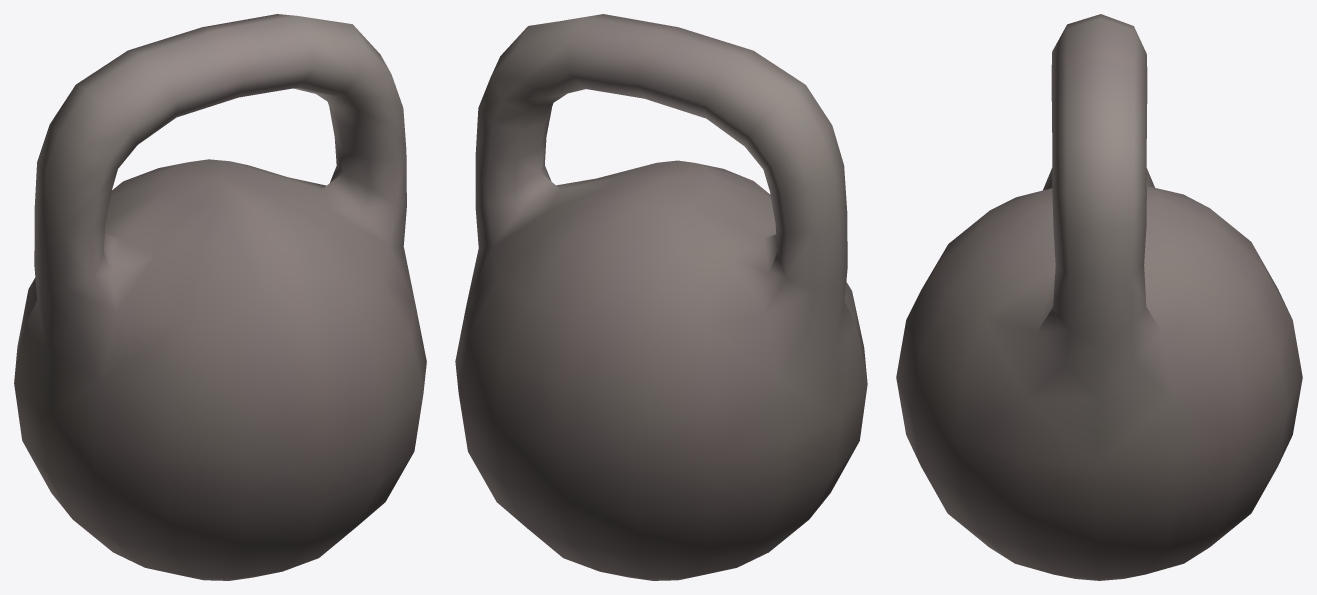
The model's file is WeightSphere.fbx.
3 views of the same model, side by side, from view 1: azimuth 30°, elevation 25°; view 2: azimuth 150°, elevation 25°; view 3: azimuth 270°, elevation 25° (orthographic). The views are drawn at different scales.
Visible parts, largest first — view 1: Sphere.005; view 2: Sphere.005; view 3: Sphere.005.
Boxes of the visible parts, bbox=[...] form: Sphere.005: bbox=[14, 14, 426, 580]; Sphere.005: bbox=[455, 14, 867, 580]; Sphere.005: bbox=[896, 14, 1302, 580].
Bounding box in the file's own units: 1.94 × 2.73 × 1.97.
